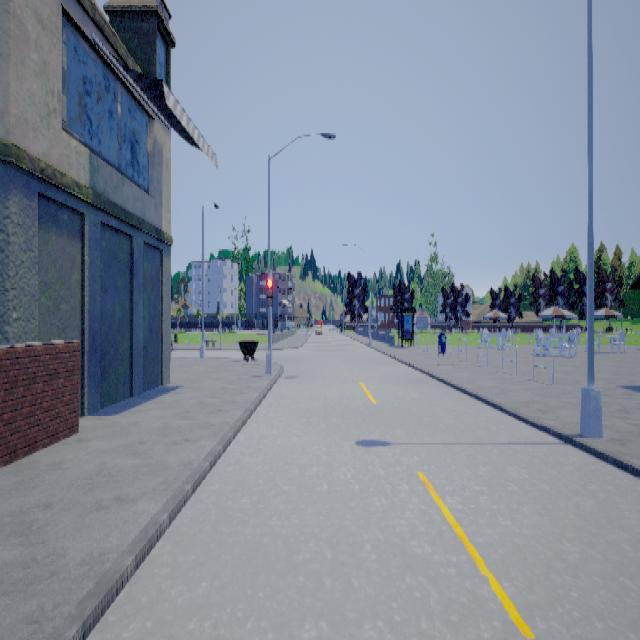red_light: (268, 271, 274, 312)
